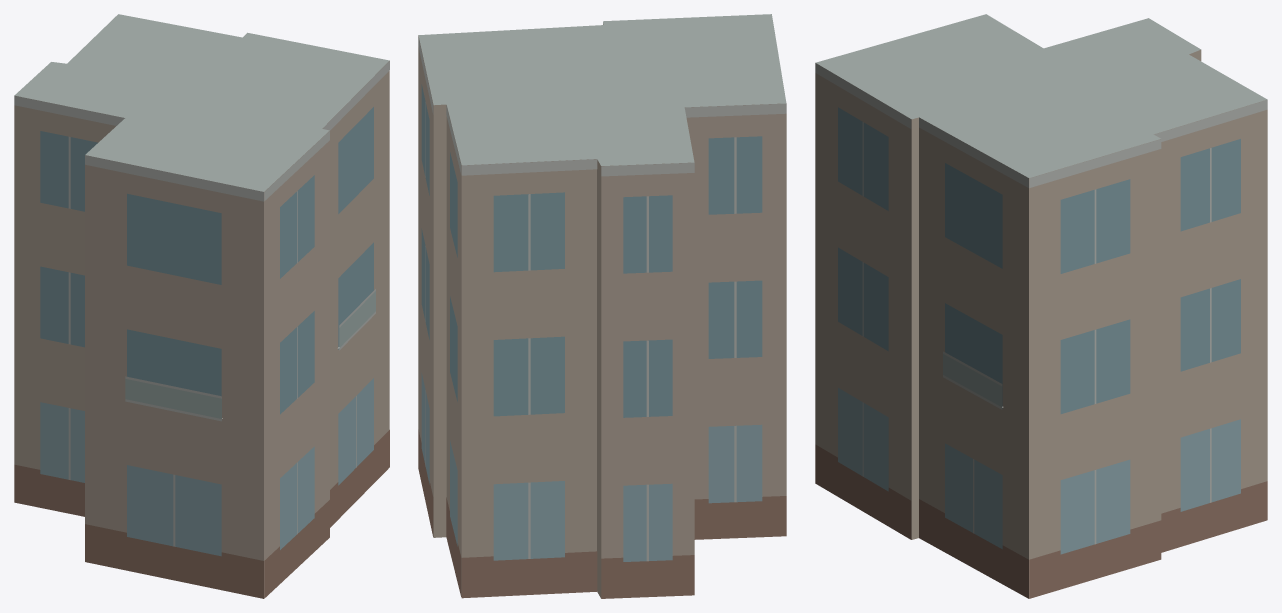
The model's file is survey-upis-32503690.glb.
The picture shows the model from 3 angles, left to right: view 1: azimuth 30°, elevation 25°; view 2: azimuth 150°, elevation 25°; view 3: azimuth 270°, elevation 25°; orthographic projection. The views are drawn at different scales.
Parts seen in each view (by area): view 1: survey-upis-32503690.tmp; view 2: survey-upis-32503690.tmp; view 3: survey-upis-32503690.tmp.
Boxes of the visible parts, x1,y1,x2,y2 form: survey-upis-32503690.tmp: [14, 14, 389, 598]; survey-upis-32503690.tmp: [418, 14, 786, 598]; survey-upis-32503690.tmp: [815, 14, 1267, 598].
Bounding box in the file's own units: 8.55 × 10.2 × 9.95.
